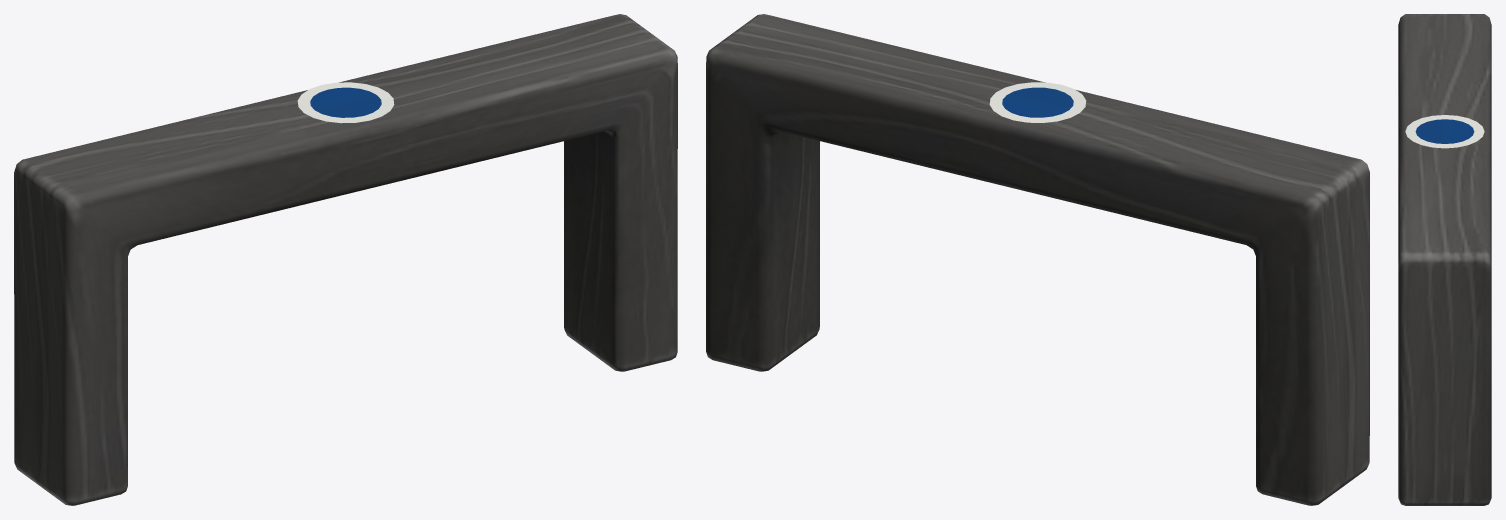
3 renders of one model, left to right at view 1: azimuth 30°, elevation 25°; view 2: azimuth 150°, elevation 25°; view 3: azimuth 270°, elevation 25°, orthographic. The views are drawn at different scales.
Visible parts, largest first — view 1: shape1_3, top_cycle; view 2: shape1_3, top_cycle; view 3: shape1_3, top_cycle.
Part boxes in pixels (x1,y1,x2,y2): shape1_3: (14,14,677,505); top_cycle: (297,82,394,123); shape1_3: (706,14,1369,505); top_cycle: (989,82,1086,122); shape1_3: (1398,14,1491,505); top_cycle: (1405,115,1484,148).
Size of the model in its own units: 31 by 15.09 by 5.
